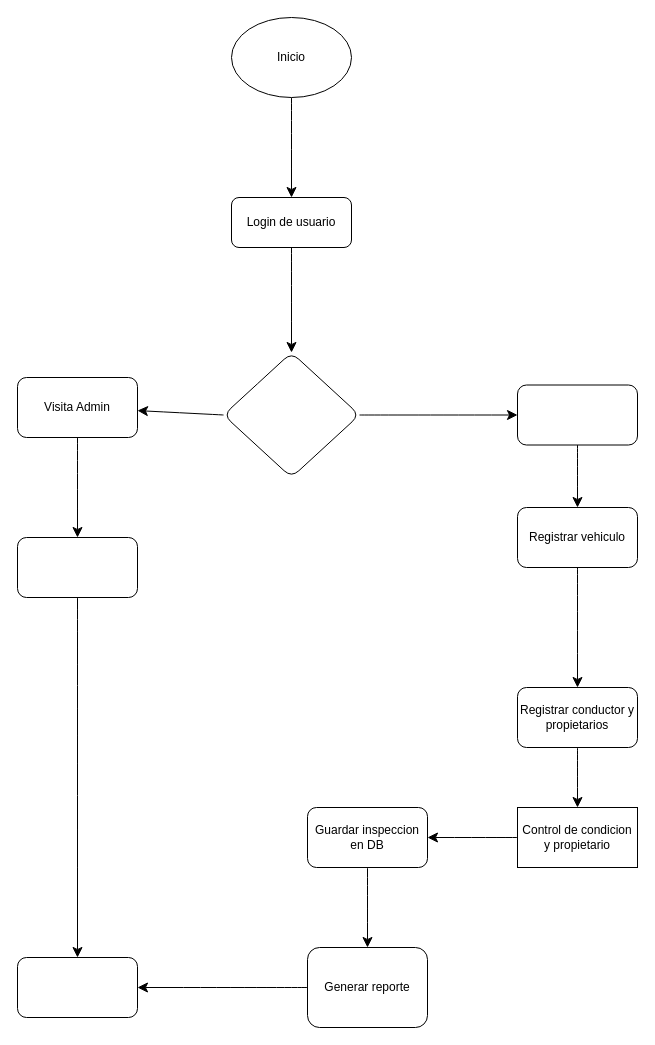
The diagram is 655 pixels wide and 1045 high, and some of its shapes have lost their labels. The shapes that lost their labels are listed below. From the top down, each one's centre as x and y in pixels, then its label:
the point at 291,415: ¿Administrador o supervisor?
the point at 577,414: Visita Supervisor
the point at 77,567: Consulta reportes
the point at 77,987: Fin
